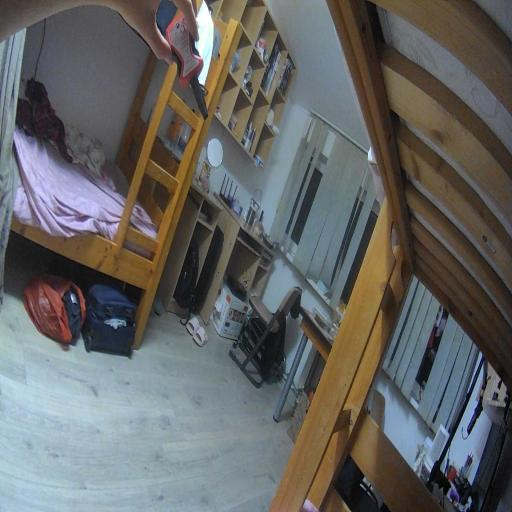Super Glue: (164, 8, 207, 124)
